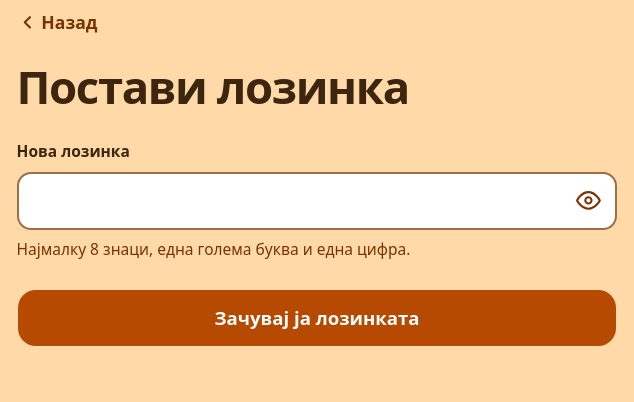
SetPasswordScreen › shows the mk text for the answer AUTH_PASSWORD_ALREADY_SET inline
In the password field labelled "Нова лозинка": (317, 201) x1=16 y1=172 x2=618 y2=230, type "Sunce2026"
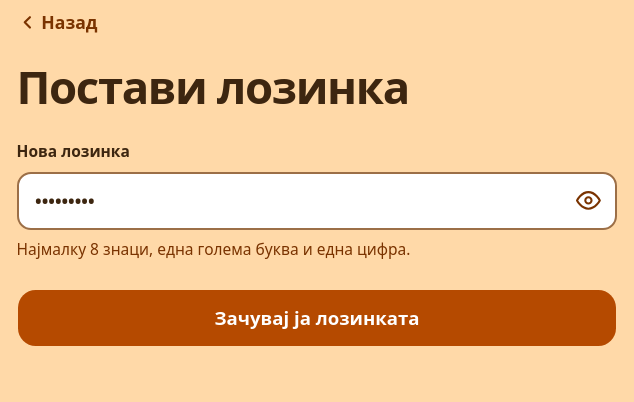
Click the button "Зачувај ја лозинката": click(317, 318) x1=16 y1=290 x2=618 y2=348
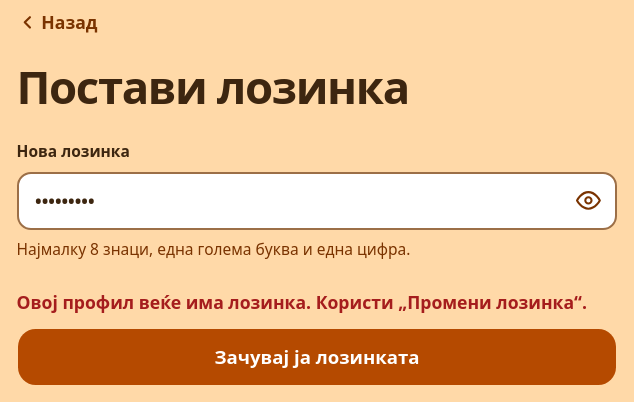
Expected: the message reads "Овој профил веќе има лозинка. Користи „Промени лозинка“.", x1=16 y1=290 x2=587 y2=314
